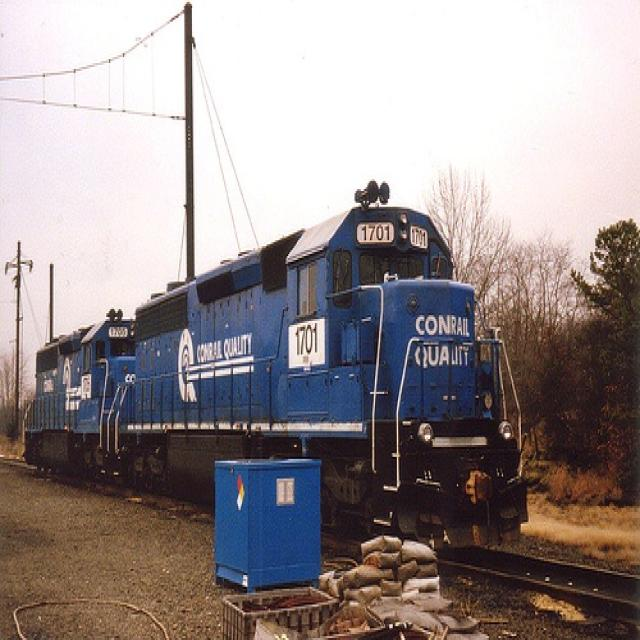train: (23, 180, 529, 550)
